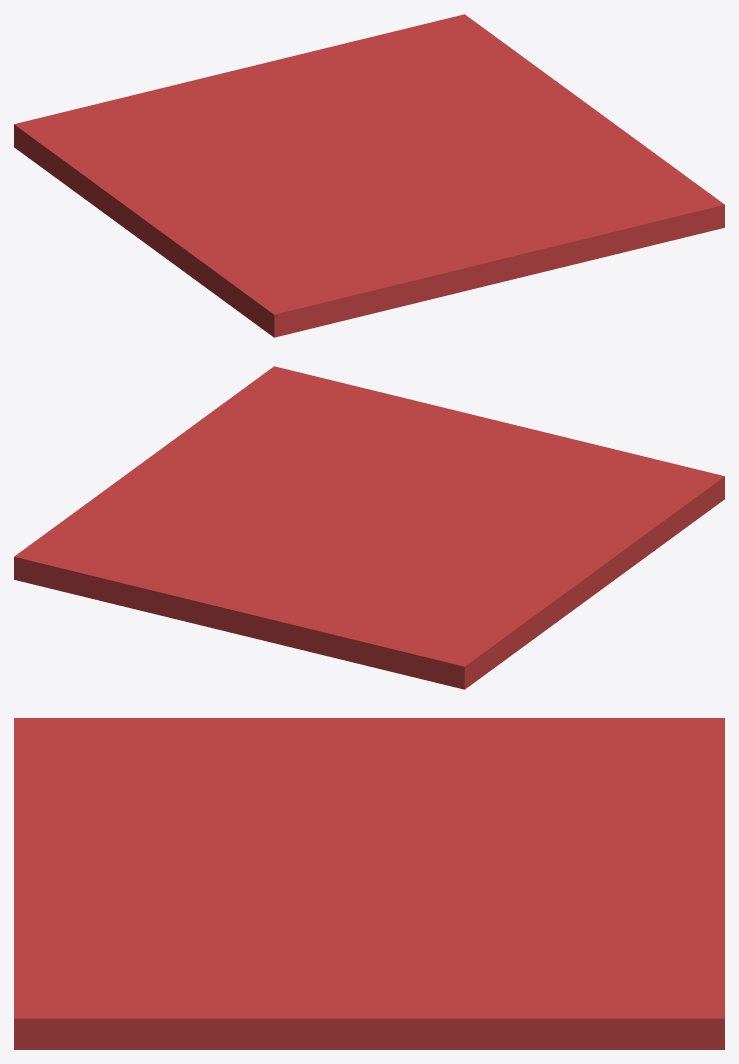
File: small_roof.fbx
The picture shows the model from 3 angles, top to bottom: view 1: azimuth 30°, elevation 25°; view 2: azimuth 150°, elevation 25°; view 3: azimuth 270°, elevation 25°; orthographic projection. The views are drawn at different scales.
Parts seen in each view (by area): view 1: Warehouse cube.002; view 2: Warehouse cube.002; view 3: Warehouse cube.002.
Part boxes in pixels (x1=…): Warehouse cube.002: x1=14, y1=14, x2=724, y2=337; Warehouse cube.002: x1=14, y1=366, x2=724, y2=689; Warehouse cube.002: x1=14, y1=718, x2=724, y2=1049.
Bounding box in the file's own units: 205 × 10 × 205.
